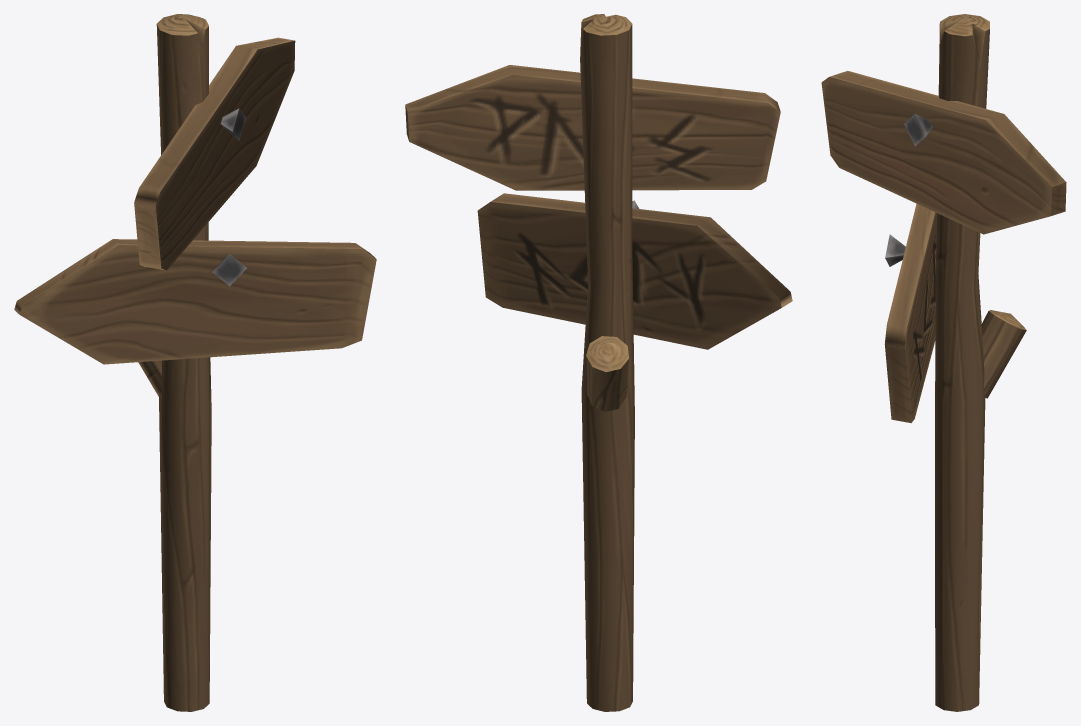
Rendered from Sign2.fbx.
The picture shows the model from 3 angles, left to right: view 1: azimuth 30°, elevation 25°; view 2: azimuth 150°, elevation 25°; view 3: azimuth 270°, elevation 25°; orthographic projection.
Visible parts, largest first — view 1: polySurface2061; view 2: polySurface2061; view 3: polySurface2061.
Boxes of the visible parts, x1=… form: polySurface2061: x1=14, y1=14, x2=376, y2=711; polySurface2061: x1=405, y1=14, x2=792, y2=711; polySurface2061: x1=821, y1=14, x2=1066, y2=711.
Bounding box in the file's own units: 2.55 × 5.02 × 1.63.
1 material, 1 textured.
